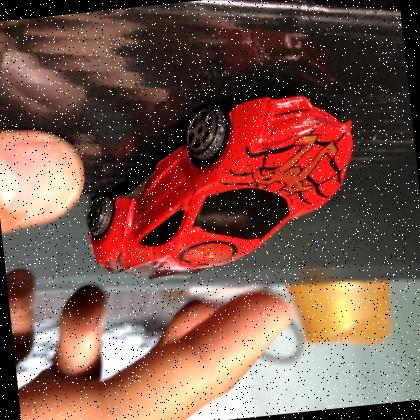Car: (70, 80, 373, 290)
